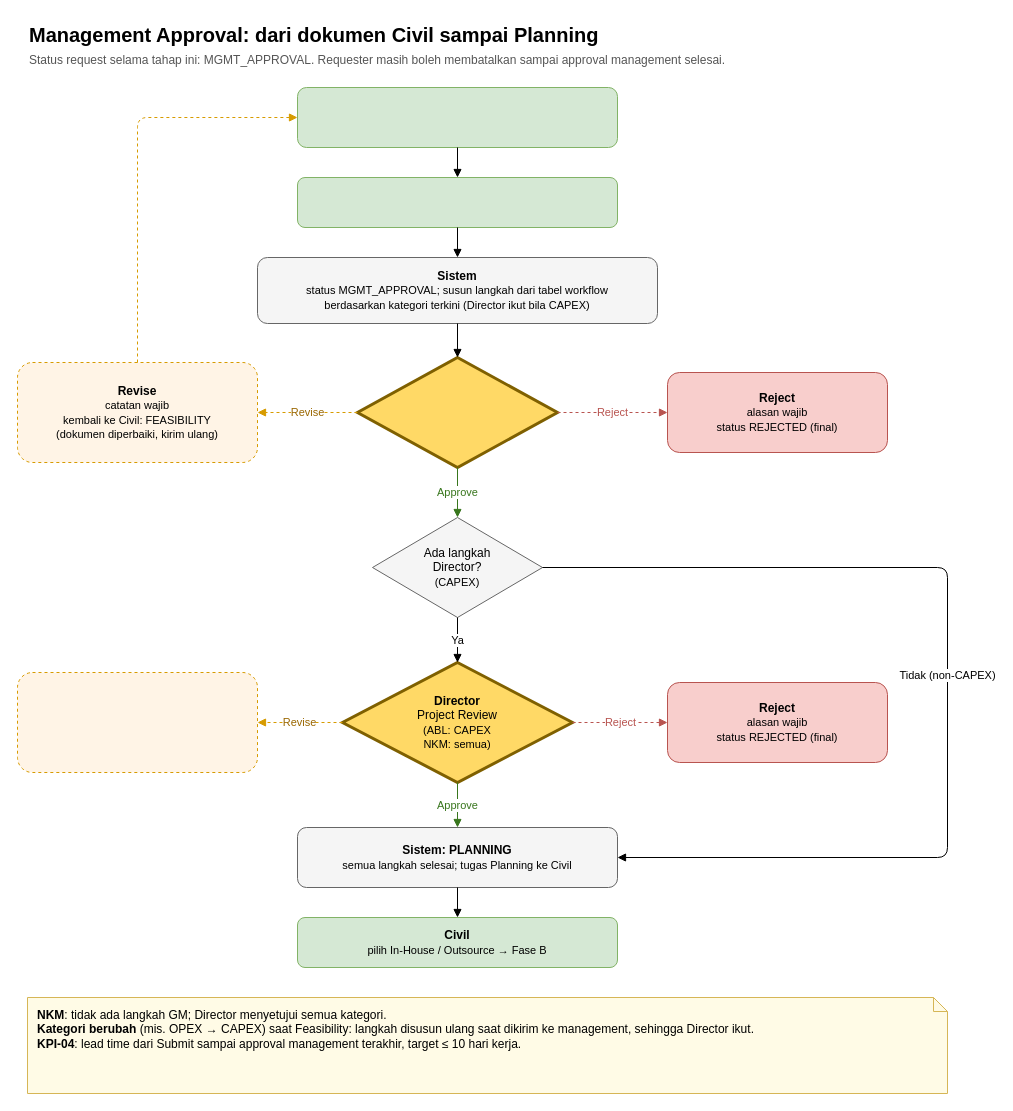
Image size: 1013x1111. Some labels were removed from this diagram. The shapes that lost their labels are listed below. From the top down, each one's centre as x and y in pixels, then its label:
pixel 457 117: Civil Feasibility = Yes, BOQ dan Drawing siap
pixel 457 202: Civil: Send to Management
pixel 457 412: GM Project Evaluation (ABL)
pixel 137 722: Revise catatan wajib kembali ke Civil: FEASIBILITY
